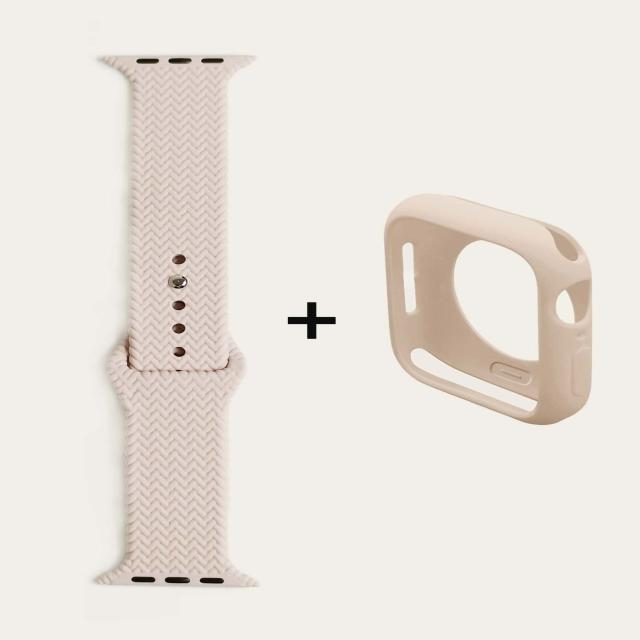bracelet: (75, 25, 313, 637)
